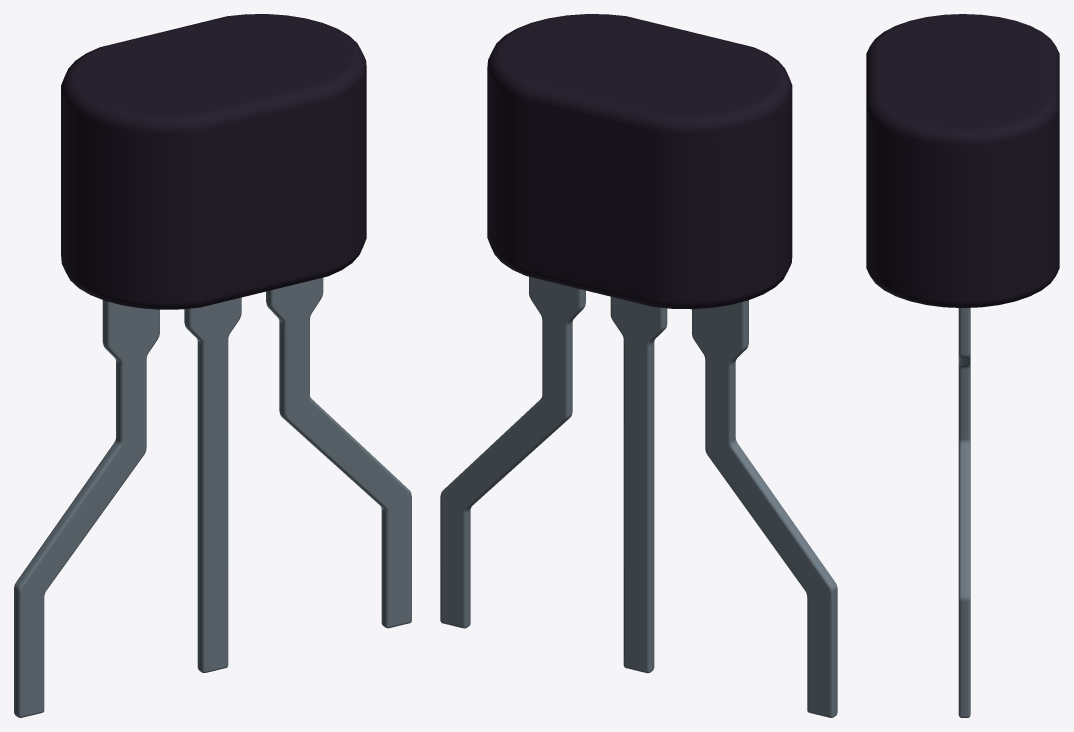
3 views of the same model, side by side, from view 1: azimuth 30°, elevation 25°; view 2: azimuth 150°, elevation 25°; view 3: azimuth 270°, elevation 25° (orthographic). The views are drawn at different scales.
Visible parts, largest first — view 1: body_002_mesh, connector_leg_004_mesh, connector_leg_006_mesh, connector_leg_005_mesh; view 2: body_002_mesh, connector_leg_004_mesh, connector_leg_006_mesh, connector_leg_005_mesh; view 3: body_002_mesh, connector_leg_006_mesh.
Boxes of the visible parts, x1,y1,x2,y2 form: body_002_mesh: [61, 14, 366, 309]; connector_leg_004_mesh: [14, 300, 159, 717]; connector_leg_006_mesh: [266, 277, 411, 628]; connector_leg_005_mesh: [184, 297, 241, 672]; body_002_mesh: [487, 14, 792, 309]; connector_leg_004_mesh: [692, 300, 837, 717]; connector_leg_006_mesh: [440, 276, 585, 628]; connector_leg_005_mesh: [610, 296, 667, 673]; body_002_mesh: [866, 14, 1059, 307]; connector_leg_006_mesh: [958, 307, 970, 717].
Bounding box in the file's own units: 1.23 × 1.81 × 0.5676.
